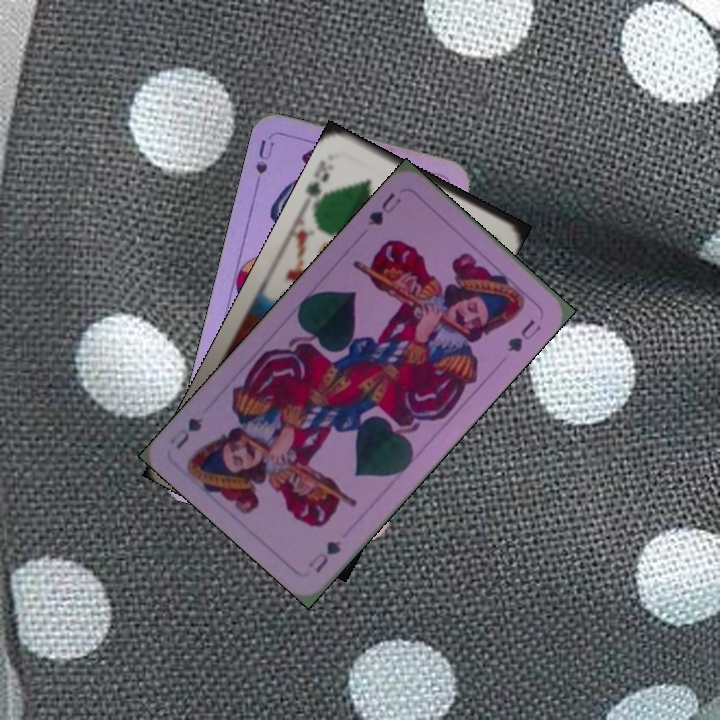GK: (301, 156, 332, 208)
GU: (364, 188, 404, 229), (304, 536, 344, 576)
SU: (250, 135, 277, 195)
